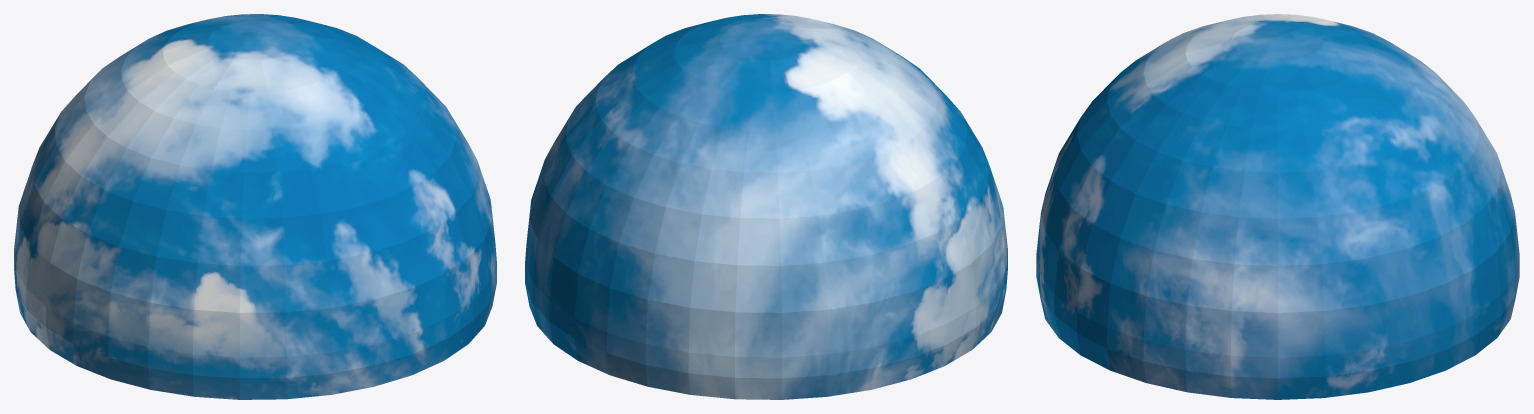
File: skyDome.glb
3 views of the same model, side by side, from view 1: azimuth 30°, elevation 25°; view 2: azimuth 150°, elevation 25°; view 3: azimuth 270°, elevation 25° (orthographic).
Visible parts, largest first — view 1: Sphere; view 2: Sphere; view 3: Sphere.
Part boxes in pixels (x1,y1,x2,y2): Sphere: (14,14,496,399); Sphere: (525,14,1007,399); Sphere: (1036,14,1519,399).
Size of the model in its own units: 200 by 120 by 200.
1 material, 1 textured.
